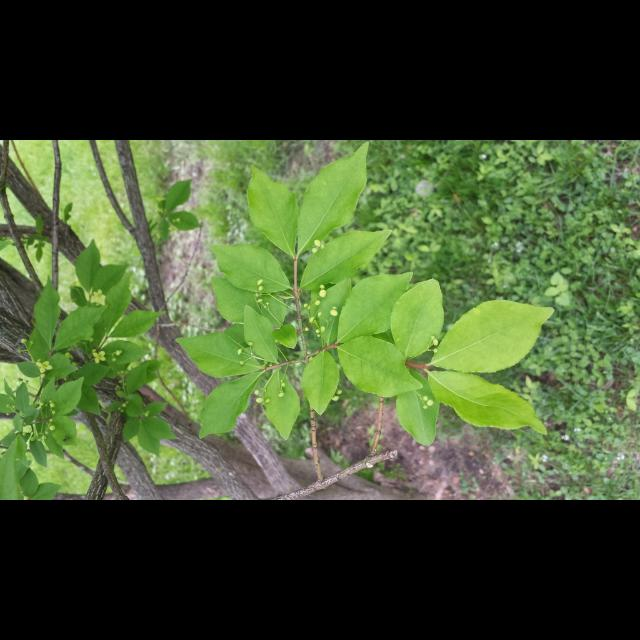Flower: (90, 288, 108, 306), (90, 350, 108, 364)
